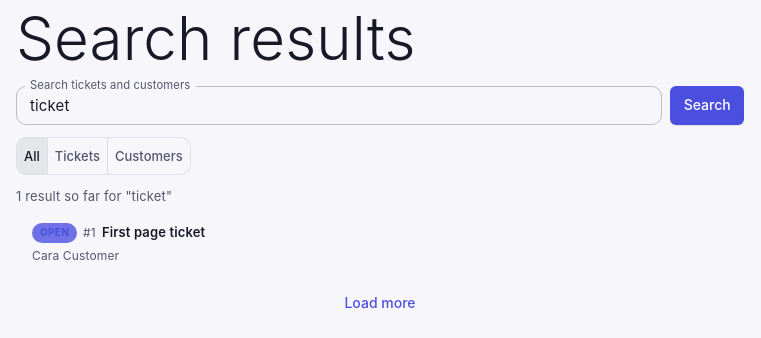
Test: SearchResultsPage › loads more results with the cursor
The image size is (761, 338).
Expected: the text "First page ticket" is shown, [102,223,205,243]
What coordinates should you click on to do the following:
click the button "Load more"
I would click on:
 (380, 303)
Its box is [336,285,424,321].
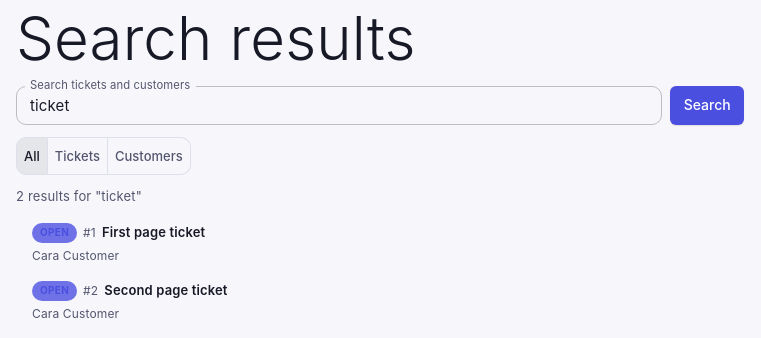
Expected: the text "First page ticket" is shown, [102,223,205,243]
Expected: the text "Second page ticket" is shown, [104,281,228,301]
Expected: the button "Load more" is gone
